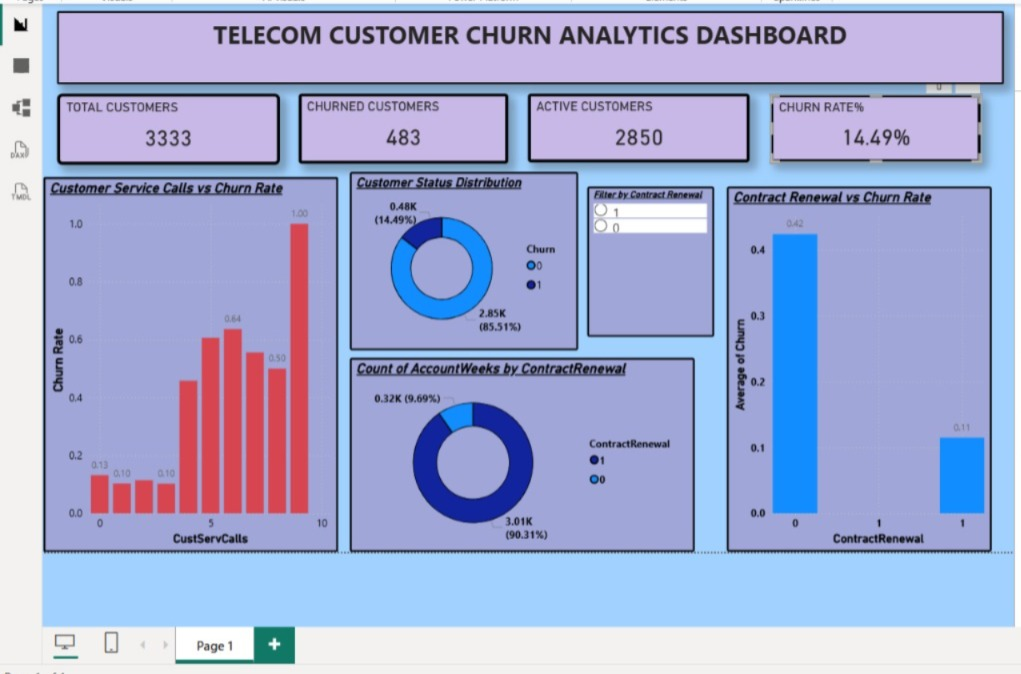

What the dashboard file says about the page in this screenshot:
{"tool":"powerbi","page":{"name":"Page 1","canvas":[1280,720],"ordinal":0},"visuals":[{"type":"card","title":"TOTAL CUSTOMERS","fields":{"Values":["CountNonNull(telecom_churn.AccountWeeks)"]},"box":[19.2,118,293.7,93.3],"z":0},{"type":"card","title":"CHURNED CUSTOMERS","fields":{"Values":["CountNonNull(telecom_churn.AccountWeeks)"]},"box":[337.6,118,275.8,91.9],"z":1},{"type":"card","title":"ACTIVE CUSTOMERS","fields":{"Values":["CountNonNull(telecom_churn.AccountWeeks)"]},"box":[639.5,118,292.3,90.6],"z":2},{"type":"card","title":"CHURN RATE%","fields":{"Values":["telecom_churn.Churn Rate %"]},"box":[959.2,119.4,277.2,89.2],"z":3},{"type":"clusteredColumnChart","title":"Customer Service Calls vs Churn Rate","fields":{"Category":["telecom_churn.CustServCalls"],"Y":["Avg(telecom_churn.Churn)"]},"box":[1.4,227.8,388.3,492.6],"z":4},{"type":"clusteredColumnChart","title":"Contract Renewal vs Churn Rate","fields":{"Category":["telecom_churn.ContractRenewal"],"Y":["Avg(telecom_churn.Churn)"]},"box":[901.5,240.1,348.5,480.3],"z":5},{"type":"listSlicer","title":"Filter by Contract Renewal","fields":{"Values":["telecom_churn.ContractRenewal"]},"box":[717.7,240.1,167.4,197.6],"z":6},{"type":"donutChart","fields":{"Category":["telecom_churn.ContractRenewal"],"Y":["CountNonNull(telecom_churn.AccountWeeks)"]},"box":[404.8,465.2,454.2,255.2],"z":7},{"type":"donutChart","title":"Customer Status Distribution","fields":{"Category":["telecom_churn.Churn"],"Y":["CountNonNull(telecom_churn.AccountWeeks)"]},"box":[404.8,220.9,300.5,234.6],"z":8},{"type":"textbox","box":[19.2,9.6,1247.3,96.1],"z":9}]}

Visuals, with their boxes in screenshot pixels (x1, y1, x2, y2):
"TOTAL CUSTOMERS" card: 54 90 277 160
"CHURNED CUSTOMERS" card: 296 90 505 159
"ACTIVE CUSTOMERS" card: 525 90 747 158
"CHURN RATE%" card: 768 91 978 158
"Customer Service Calls vs Churn Rate" clusteredColumnChart: 41 173 336 547
"Contract Renewal vs Churn Rate" clusteredColumnChart: 724 182 988 547
"Filter by Contract Renewal" listSlicer: 584 182 711 332
donutChart - telecom_churn.ContractRenewal x CountNonNull(telecom_churn.AccountWeeks): 347 353 692 547
"Customer Status Distribution" donutChart: 347 168 575 346
textbox: 54 7 1001 80
